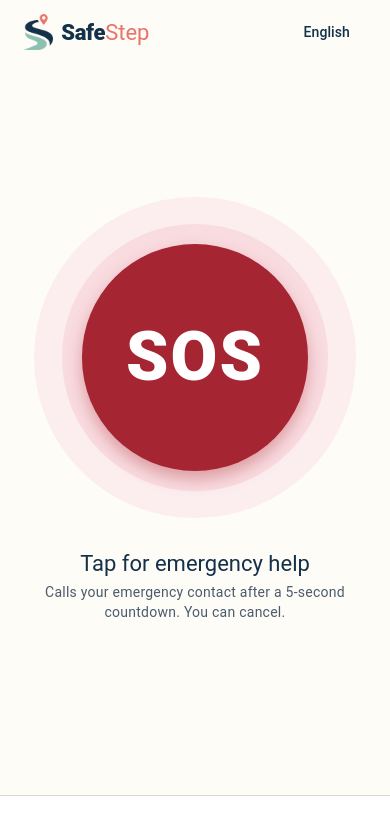
Scenario: SOS flow › no longer mentions police or ambulance numbers on Home or in SOS
Expected: the text "Calls your emergency contact after a 5-second countdown. You can cancel." is shown, [35,582,355,622]
Click the button with aria-label "SOS. Emergency help" at (195, 358), box [82,244,308,471]
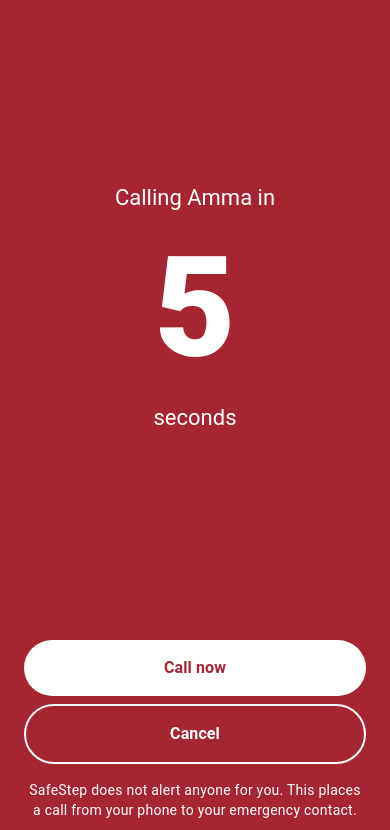
Expected: the heading "Calling Amma in" is shown, [115,184,275,212]
